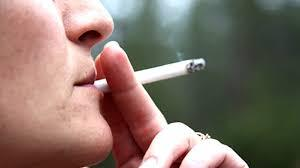smoke: (82, 58, 207, 96)
